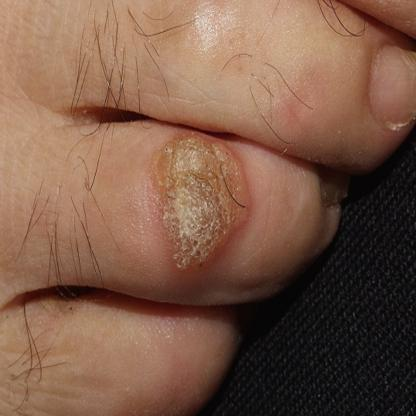Warts: (142, 121, 252, 290)
